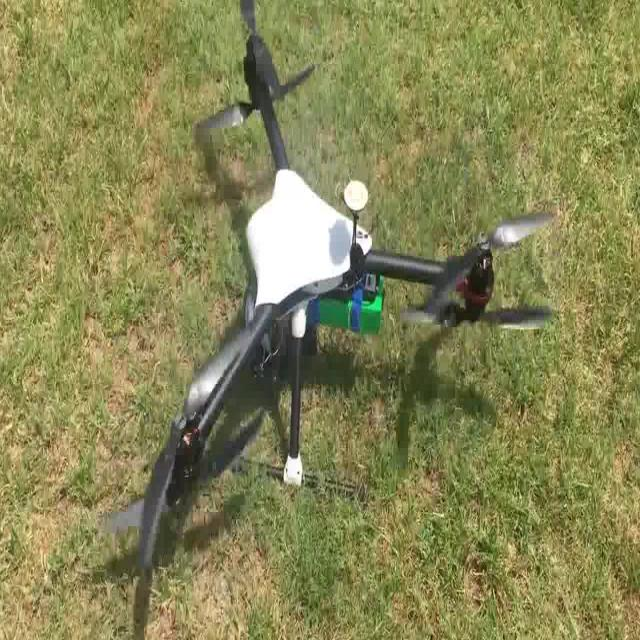drones: (84, 0, 571, 586)
